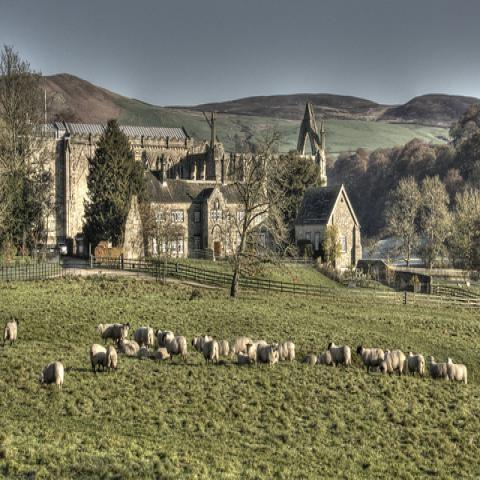car: (54, 242, 68, 255)
